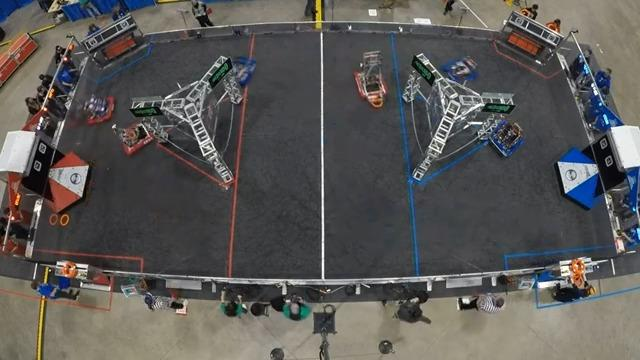robot: (482, 116, 541, 158), (348, 47, 391, 103), (112, 118, 156, 156), (219, 51, 260, 87), (76, 91, 114, 123), (445, 51, 479, 84)
